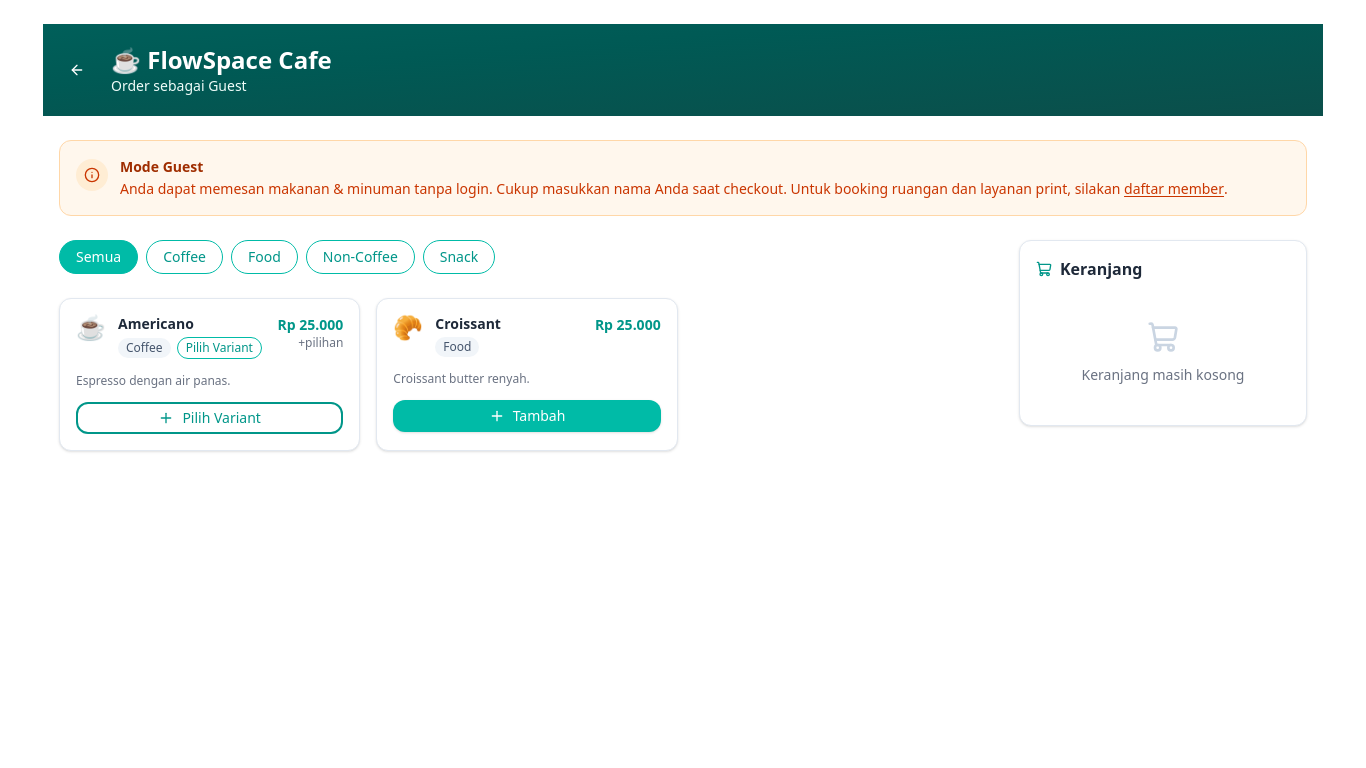
Scenario: GuestCafeClient (AC-101) › AC-102: shows GUEST_NAME_REQUIRED error in Indonesian
Click the button "Tambah" at [527, 416], box left=393, top=400, right=661, bottom=432
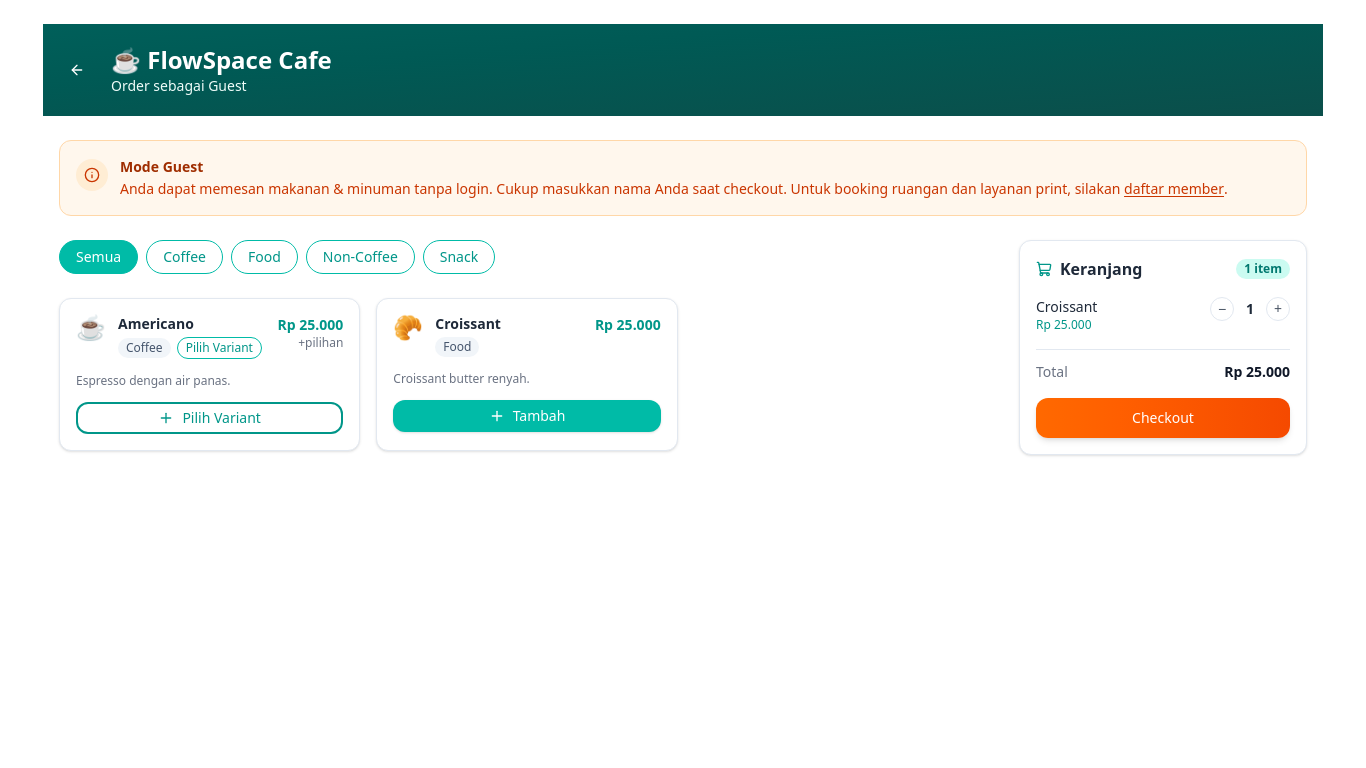
Click the button "Checkout" at [1163, 418], box left=1036, top=398, right=1290, bottom=438
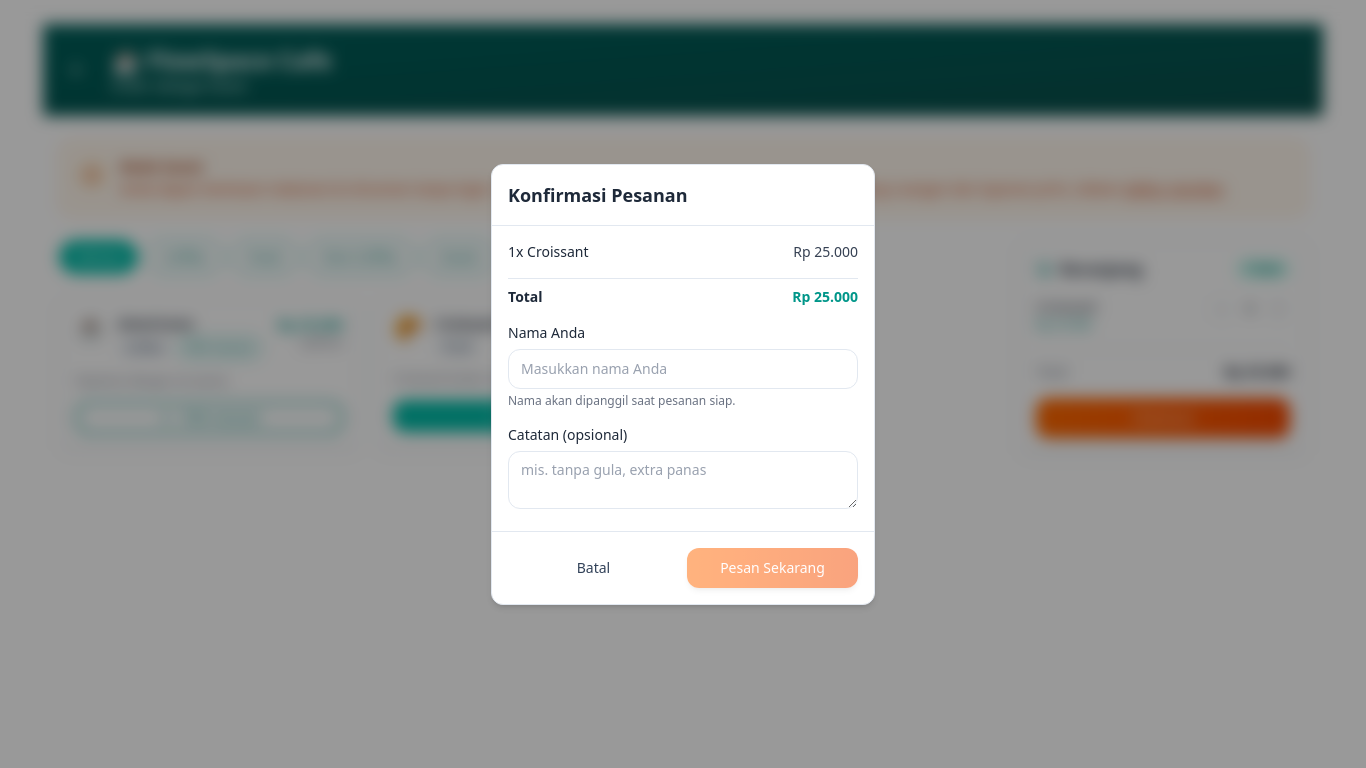
Type "Test" into the field with placeholder "Masukkan nama Anda" at [683, 368], box left=508, top=348, right=858, bottom=388
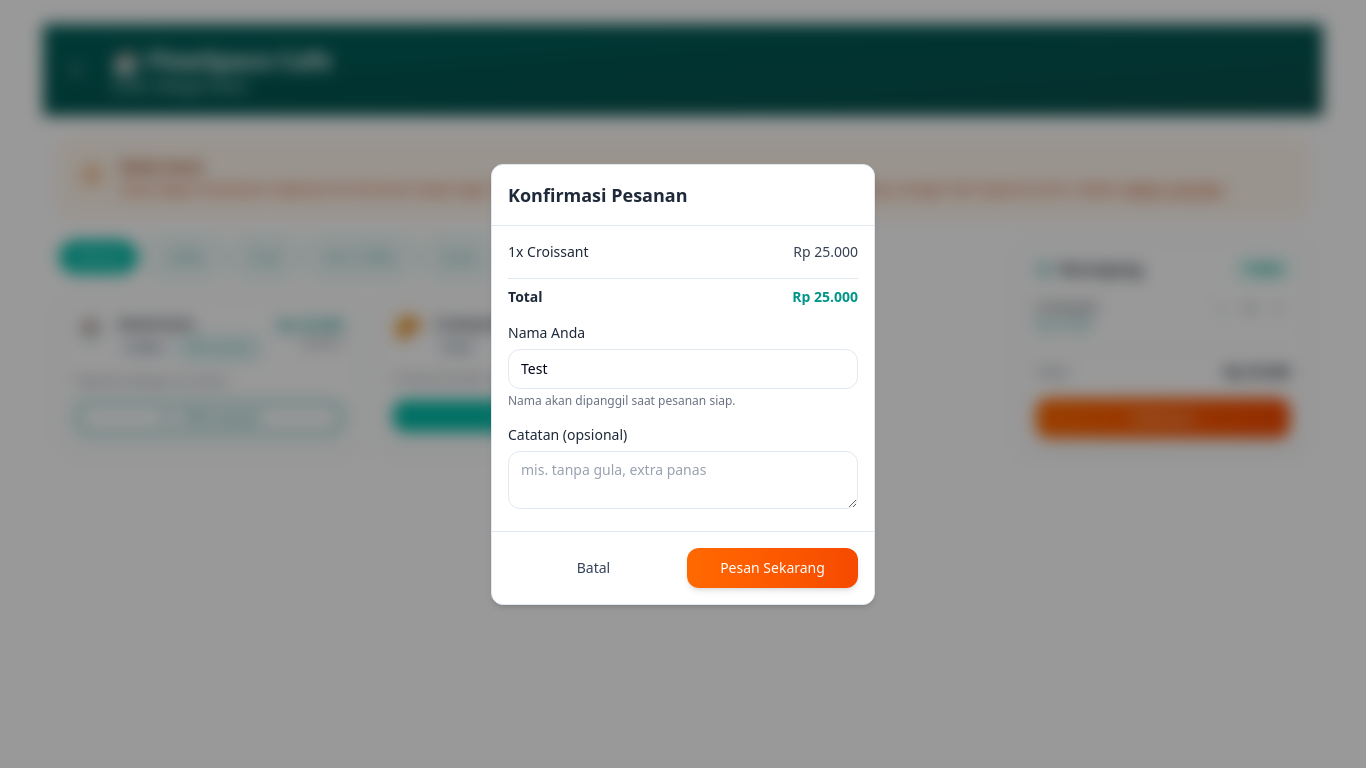
Click the button "Pesan Sekarang" at [772, 568], box left=687, top=548, right=858, bottom=588
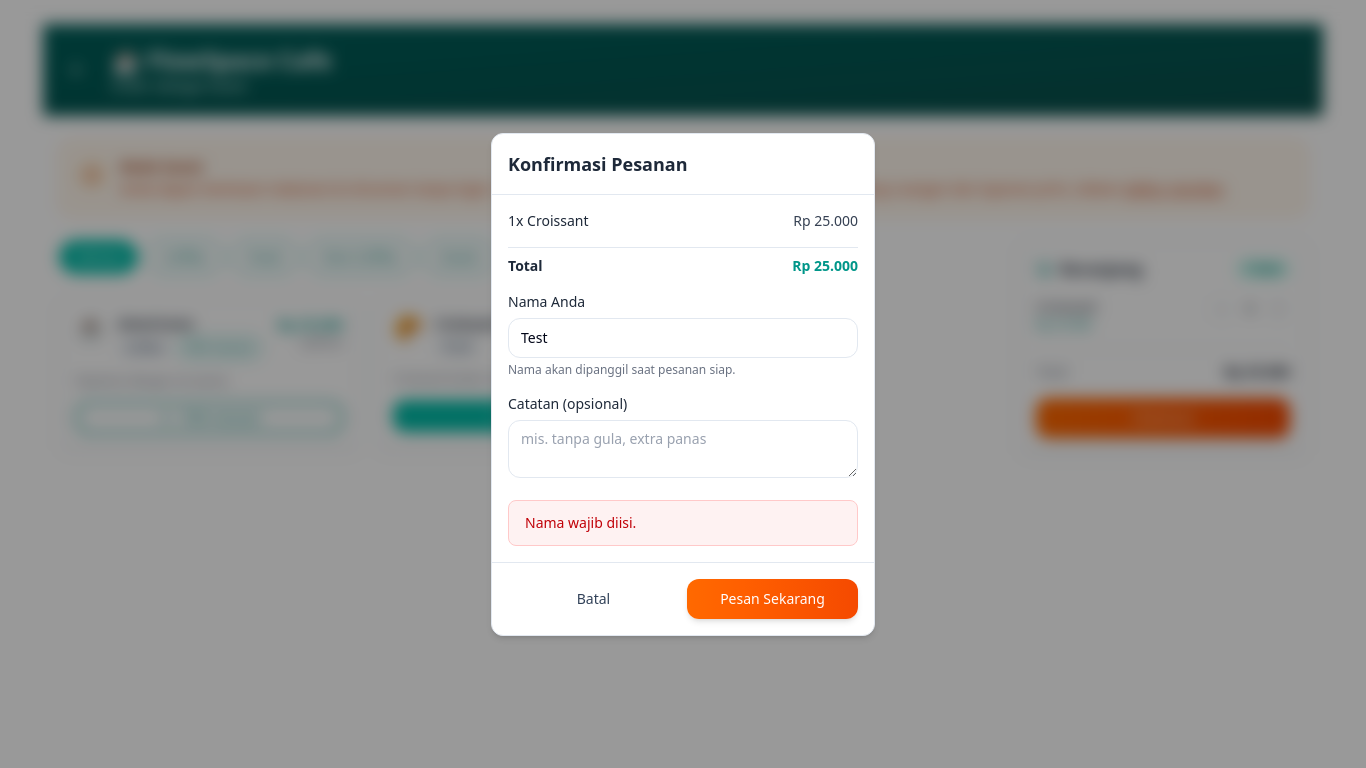
Expected: the message shows "Nama wajib diisi", left=525, top=512, right=636, bottom=532
